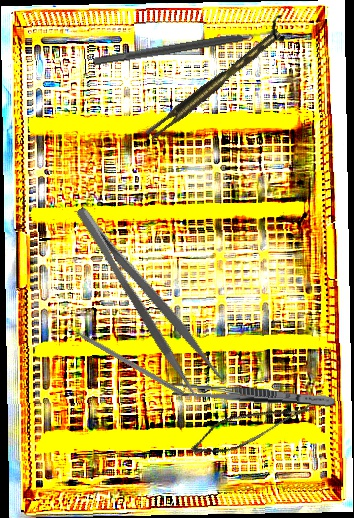Chopper: (61, 316, 188, 396)
Dressing Forceps: (71, 193, 223, 398), (172, 381, 336, 410)
Fixation Ring: (90, 13, 288, 77)
Micro Scissor: (187, 376, 316, 475)
Tissue Forceps: (142, 29, 287, 141)
